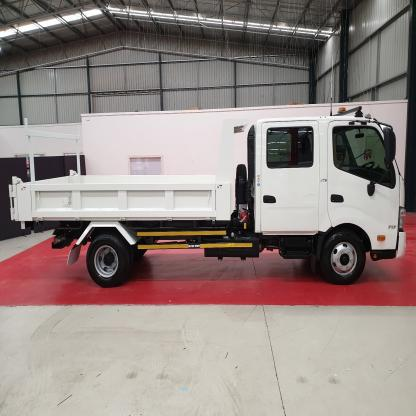dump_truck: (13, 105, 408, 289)
